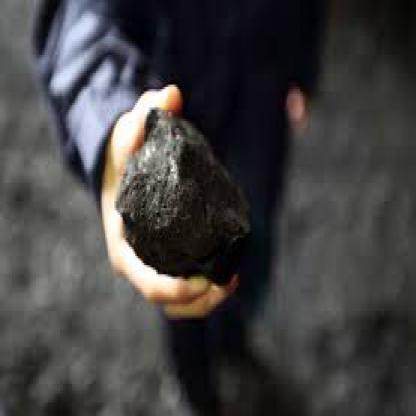Sedimentary_coal: (107, 78, 288, 281)
